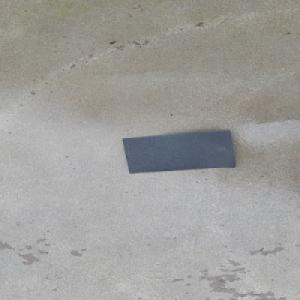PaintChip: (122, 128, 235, 173)
